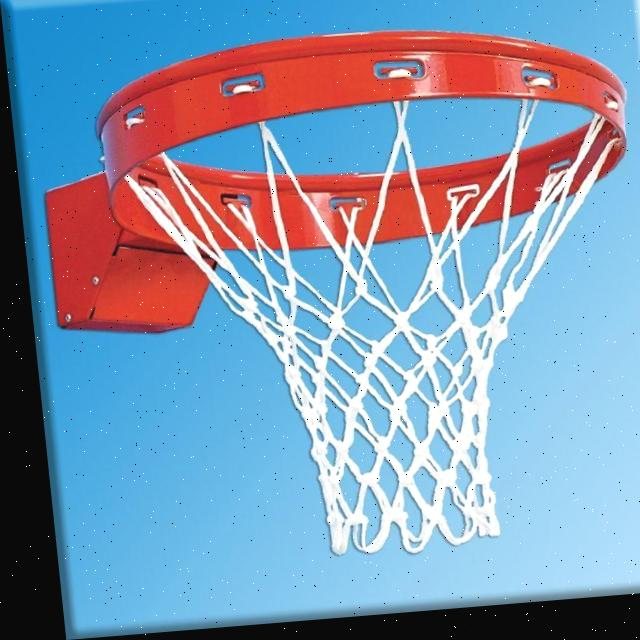hoop: (54, 32, 640, 600)
